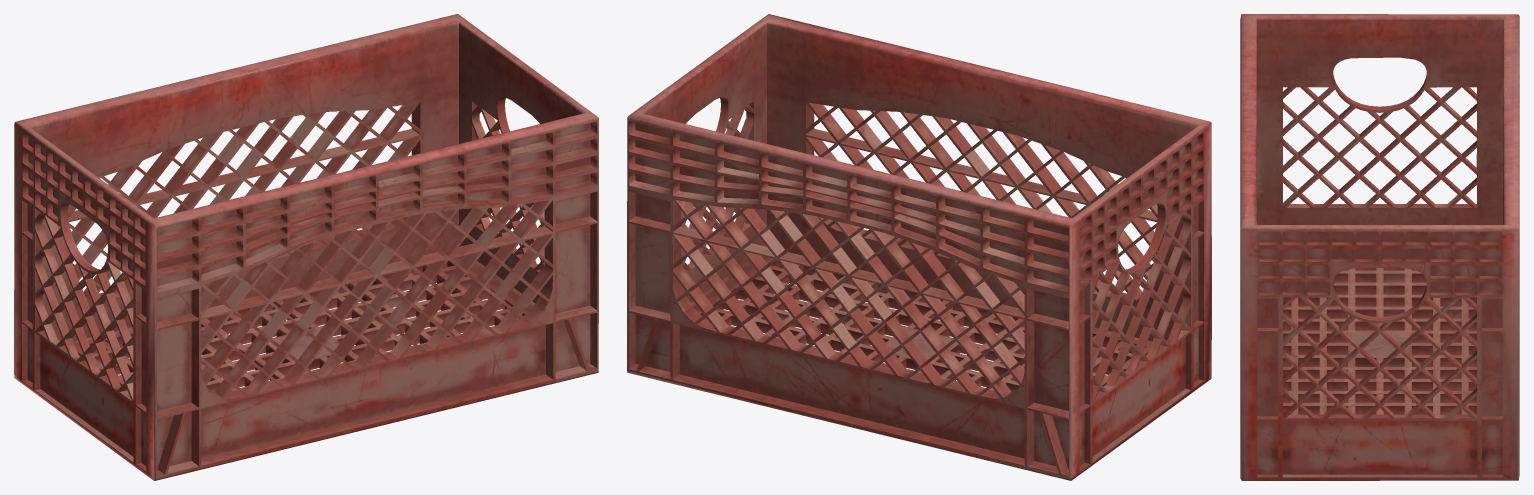
The model's file is plastic_crate_03.glb.
3 renders of one model, left to right at view 1: azimuth 30°, elevation 25°; view 2: azimuth 150°, elevation 25°; view 3: azimuth 270°, elevation 25°, orthographic.
Parts seen in each view (by area): view 1: plastic_crate_03; view 2: plastic_crate_03; view 3: plastic_crate_03.
Boxes of the visible parts, x1,y1,x2,y2 form: plastic_crate_03: [14, 14, 598, 480]; plastic_crate_03: [627, 14, 1211, 480]; plastic_crate_03: [1240, 14, 1519, 480].
Size of the model in its own units: 0.4811 by 0.266 by 0.265.
1 material, 1 textured.
